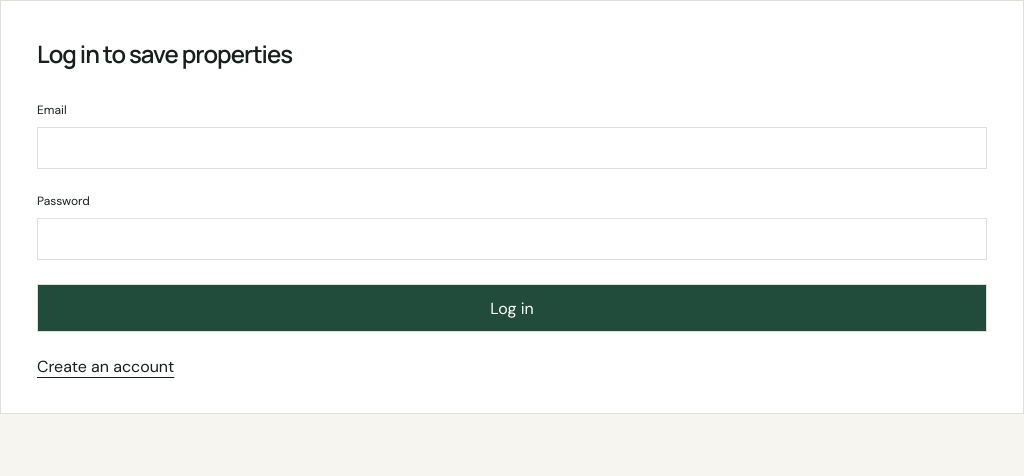
it: reports rejected credentials and permits retry
In the field labelled "Email": x=512, y=148 x1=37 y1=127 x2=987 y2=169, type "alex@example.com"
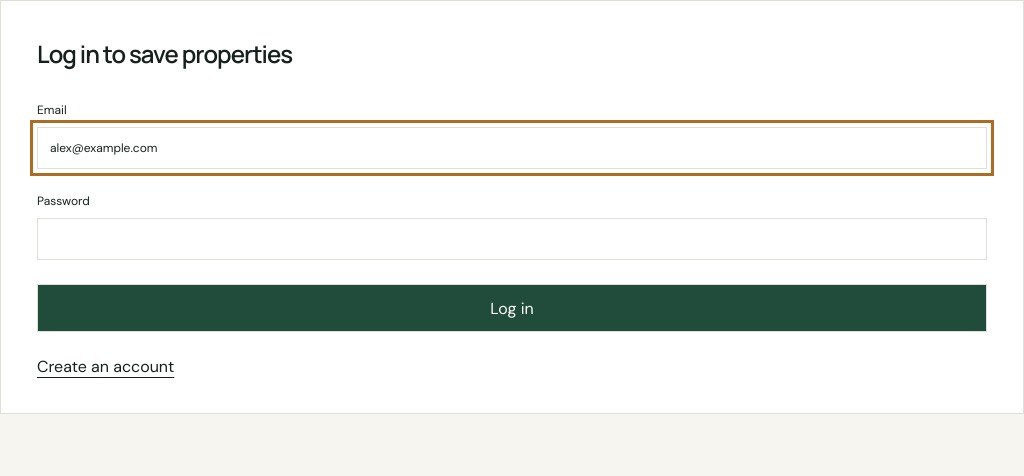
In the password field labelled "Password": x=512, y=239 x1=37 y1=218 x2=987 y2=260, type "wrong"
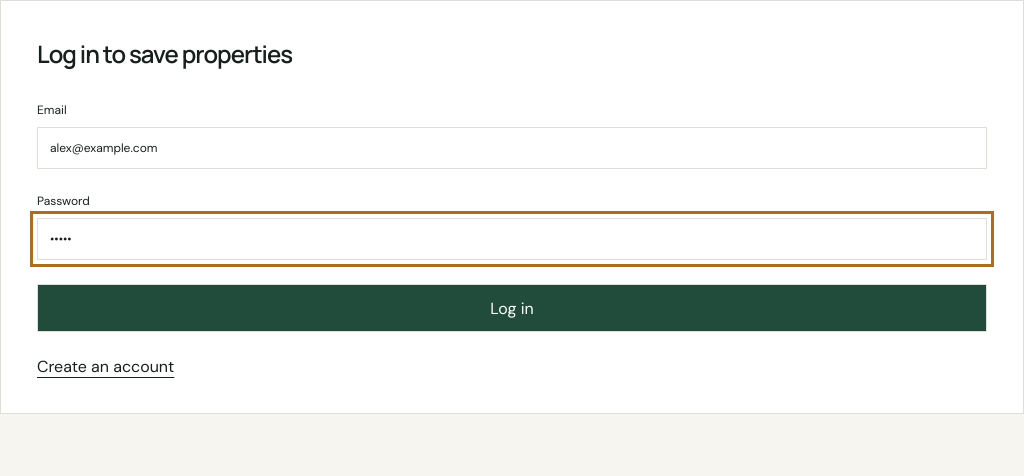
Click the button "Log in": x=512, y=308 x1=37 y1=284 x2=987 y2=332
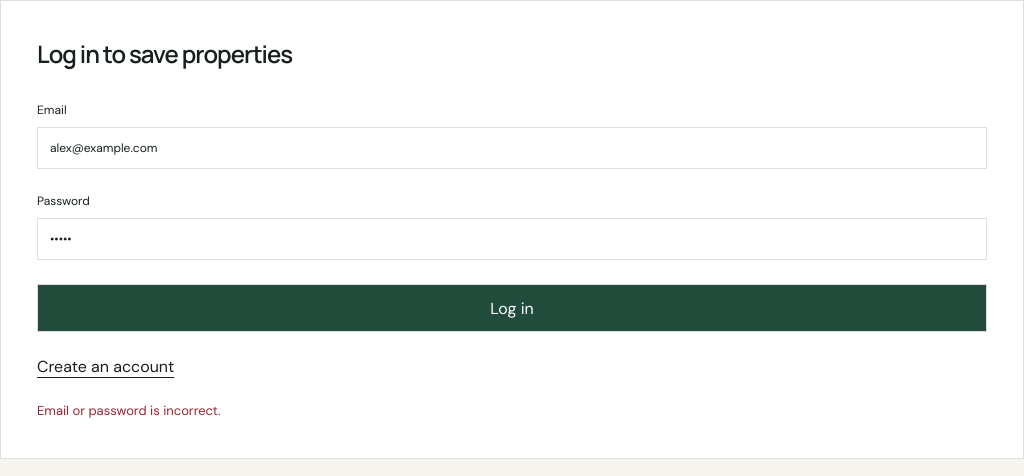
Expected: the message reads "Email or password is incorrect.", x1=37 y1=402 x2=220 y2=419
